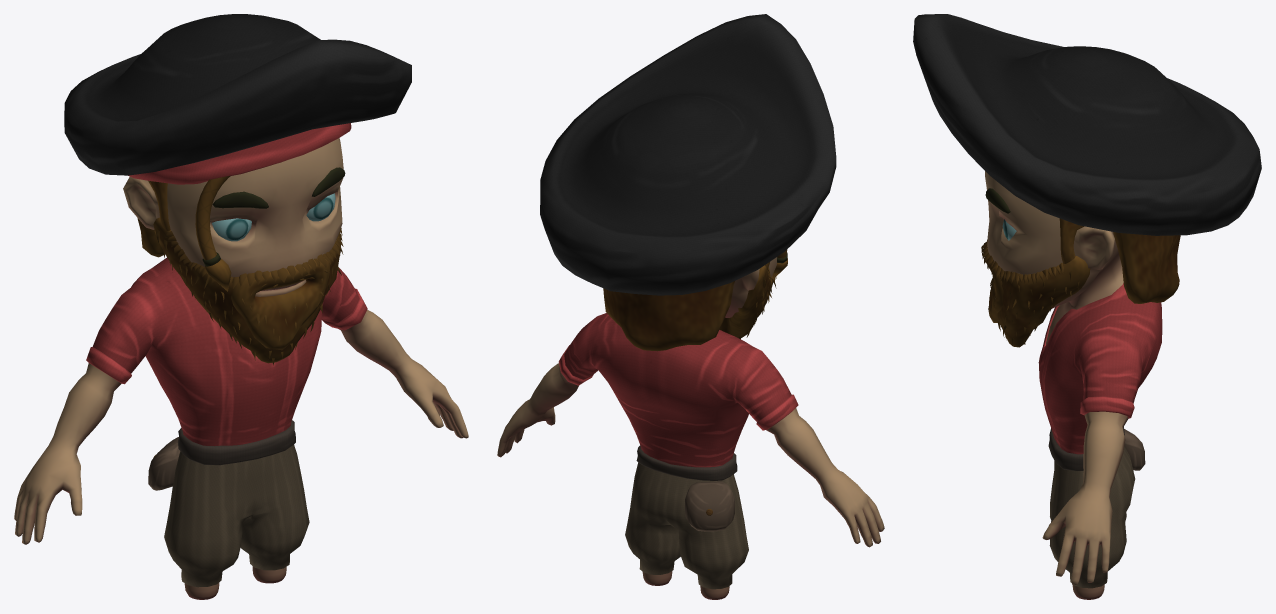
3 views of the same model, side by side, from view 1: azimuth 30°, elevation 25°; view 2: azimuth 150°, elevation 25°; view 3: azimuth 270°, elevation 25° (orthographic). The views are drawn at different scales.
Parts seen in each view (by area): view 1: GN2_TA; view 2: GN2_TA; view 3: GN2_TA.
Part boxes in pixels (x1=…): GN2_TA: x1=14, y1=14, x2=468, y2=599; GN2_TA: x1=497, y1=14, x2=884, y2=599; GN2_TA: x1=913, y1=14, x2=1261, y2=599.
Size of the model in its own units: 120 by 159 by 89.1.
Materials: 1 (1 with a texture image).
